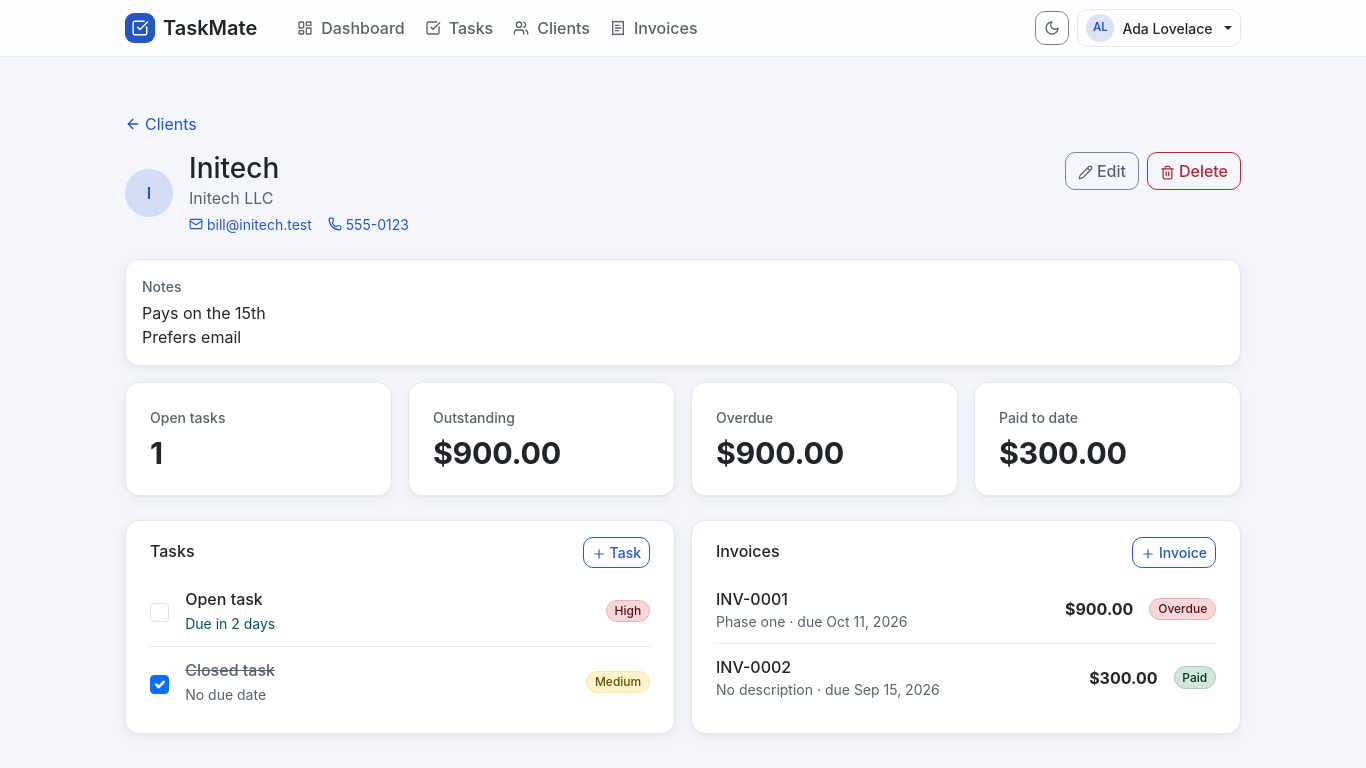
Test: Client detail page › edits the client
The width and height of the screenshot is (1366, 768).
Click the button "Edit": x=1102, y=171 [1065,152,1139,190]
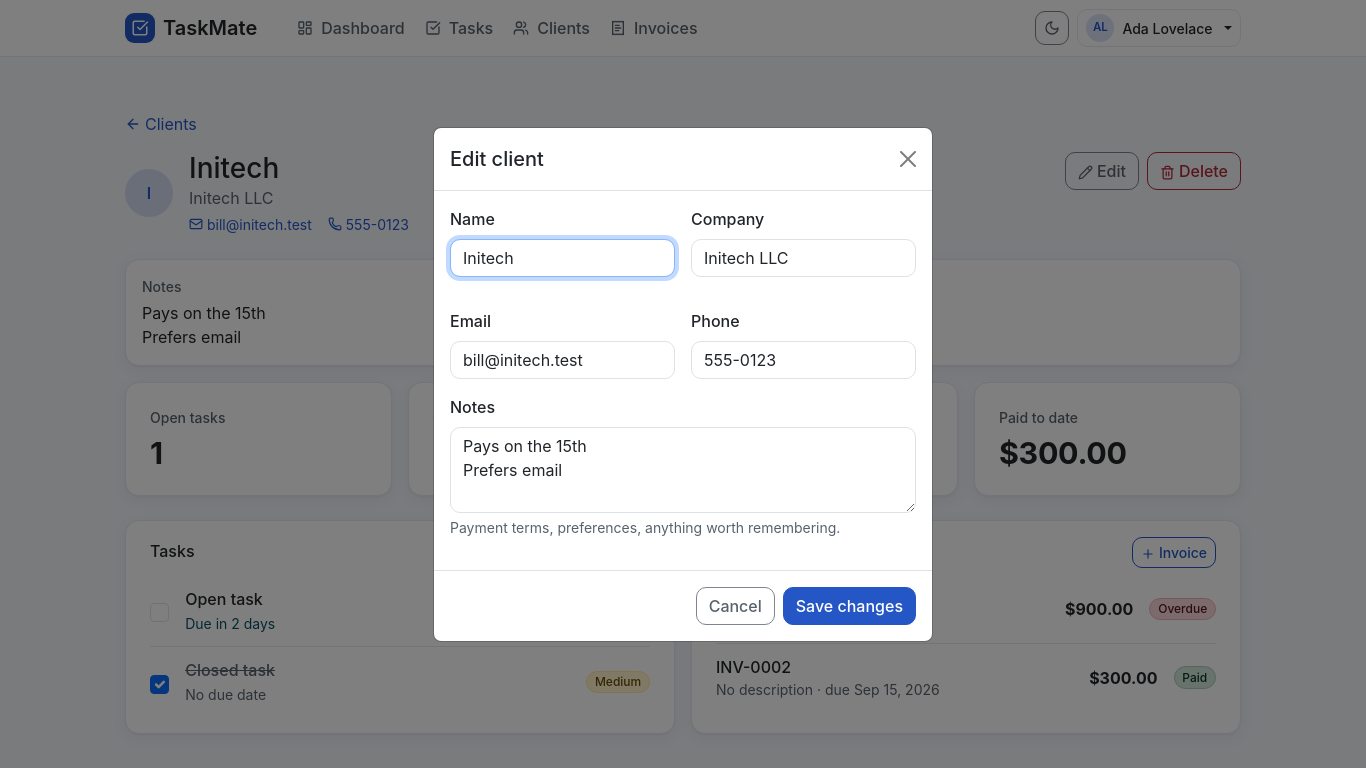
expect the field labelled "Name" holds "Initech": met
Replace the text in the field labelled "Name" with "Initech International": x=562, y=258 [450,238,675,276]
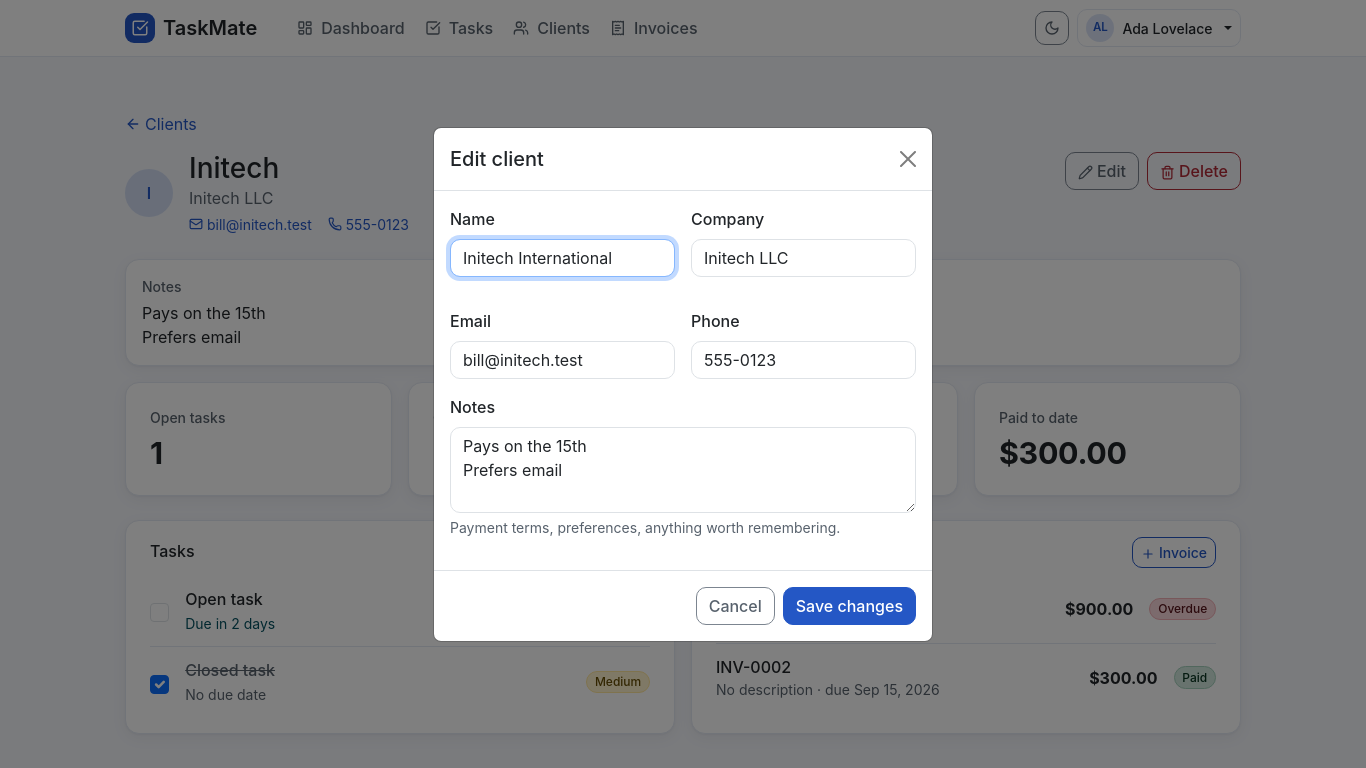
Click the button "Save changes": x=849, y=606 [783,586,916,624]
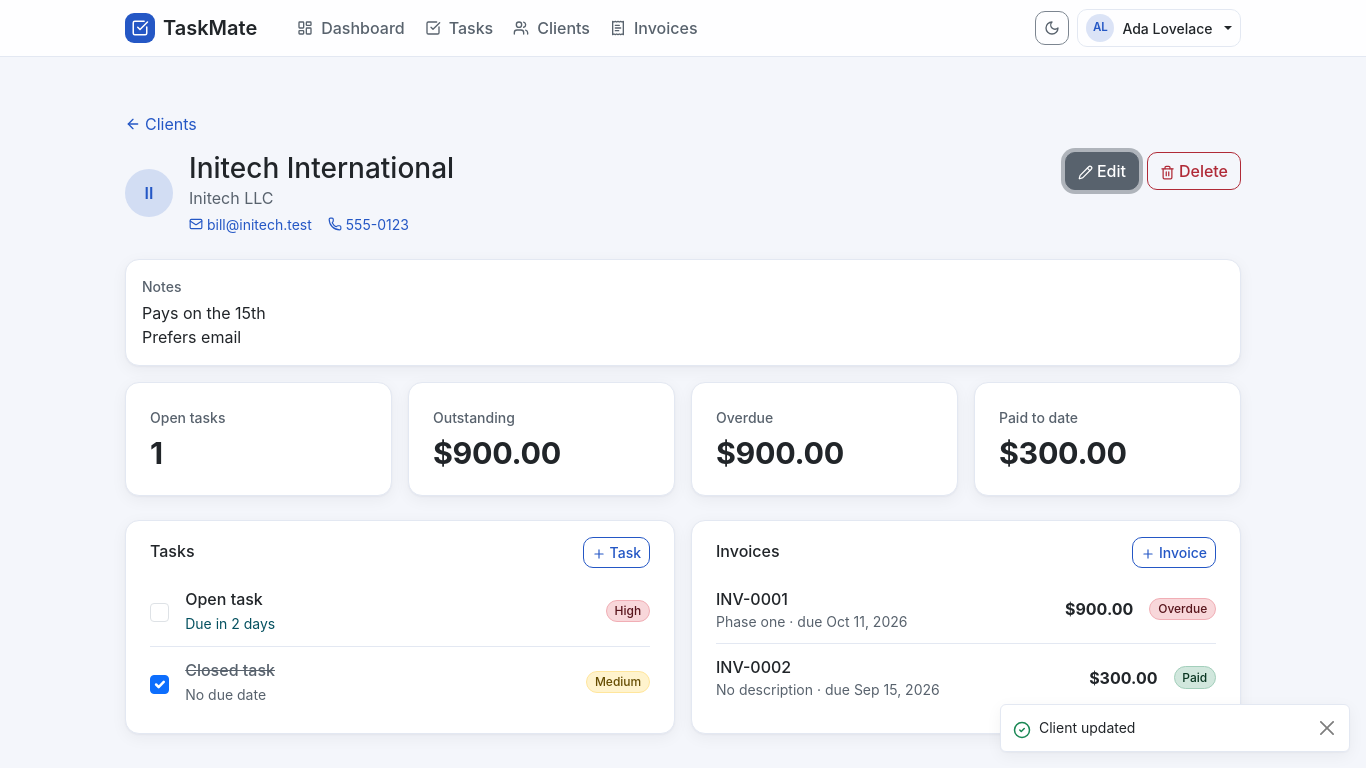
expect the heading "Initech International" is shown: met, box [189,152,454,186]
